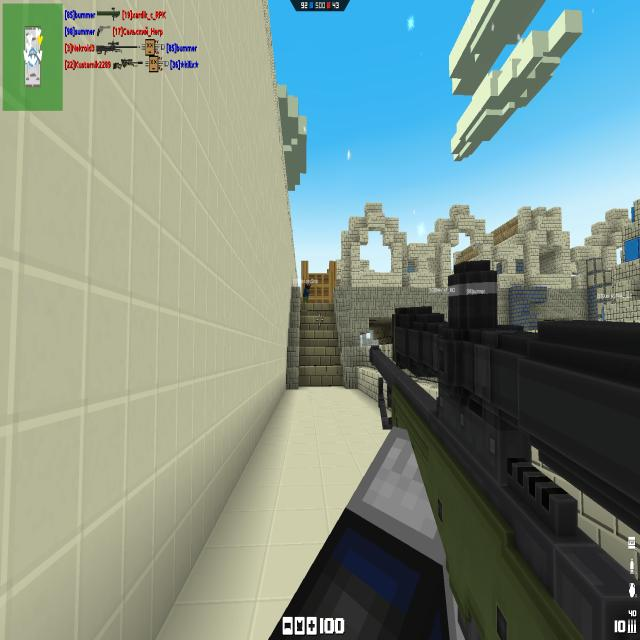player: (302, 283, 310, 304)
